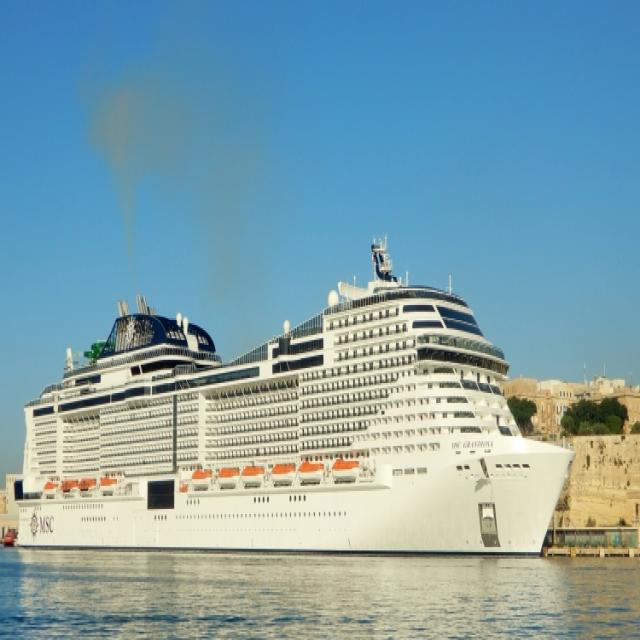cruises: (9, 233, 580, 567)
